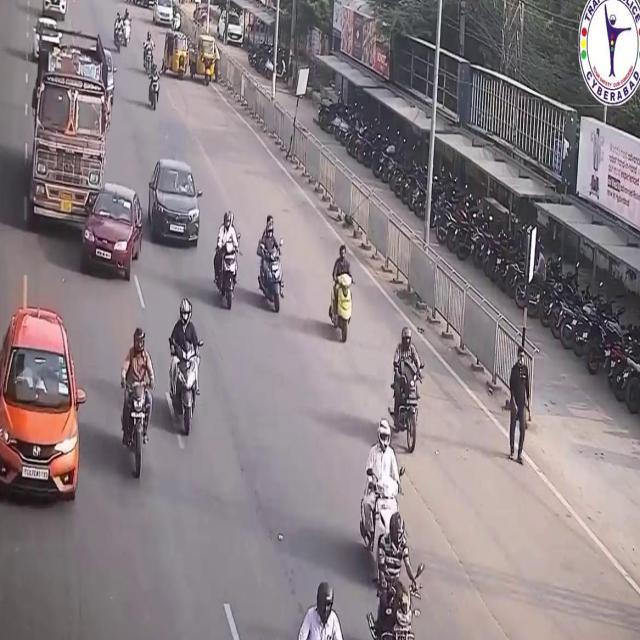accident: (25, 17, 147, 295)
non_accident: (357, 422, 431, 640), (125, 0, 182, 28)
